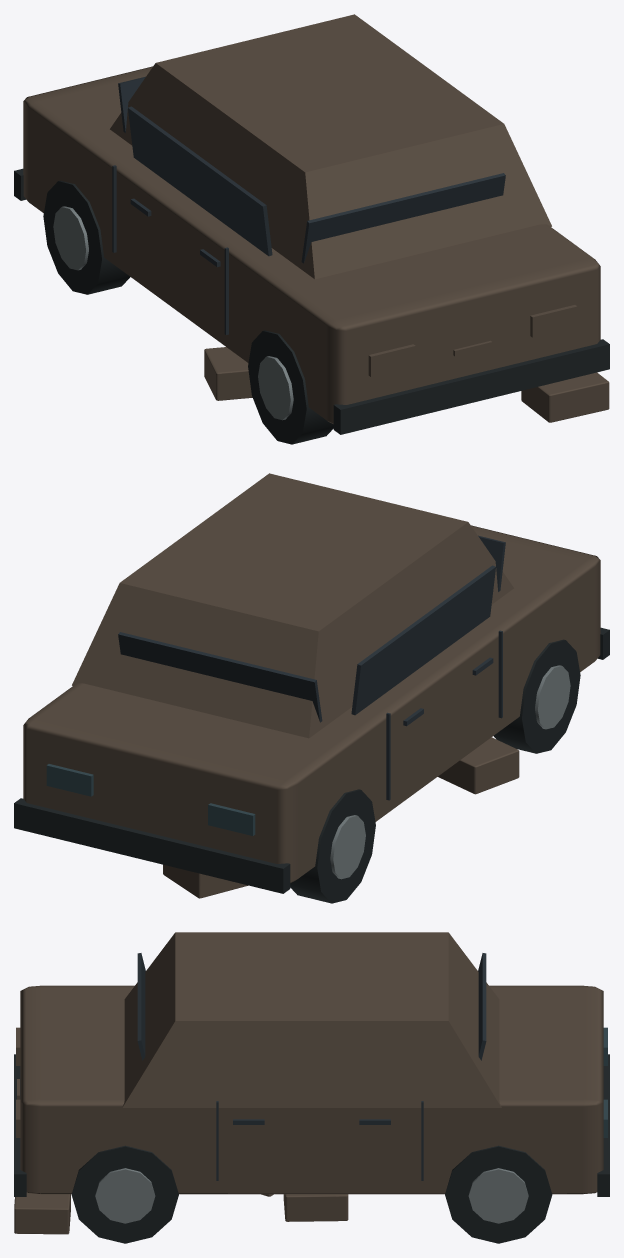
The model's file is hatchback-wreck-2.glb.
The picture shows the model from 3 angles, top to bottom: view 1: azimuth 30°, elevation 25°; view 2: azimuth 150°, elevation 25°; view 3: azimuth 270°, elevation 25°; orthographic projection. The views are drawn at different scales.
Visible parts, largest first — view 1: hatchback-wreck/1/KR-230-2; view 2: hatchback-wreck/1/KR-230-2; view 3: hatchback-wreck/1/KR-230-2.
Boxes of the visible parts, x1,y1,x2,y2 form: hatchback-wreck/1/KR-230-2: (14,14,609,444); hatchback-wreck/1/KR-230-2: (14,473,609,903); hatchback-wreck/1/KR-230-2: (14,932,609,1243).
Bounding box in the file's own units: 1.95 × 1.5 × 3.78.
